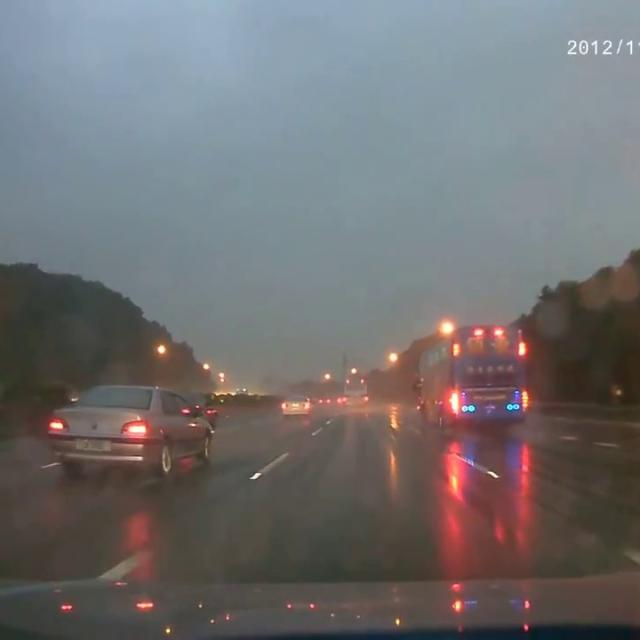Car: (47, 380, 214, 474), (277, 394, 312, 416)
